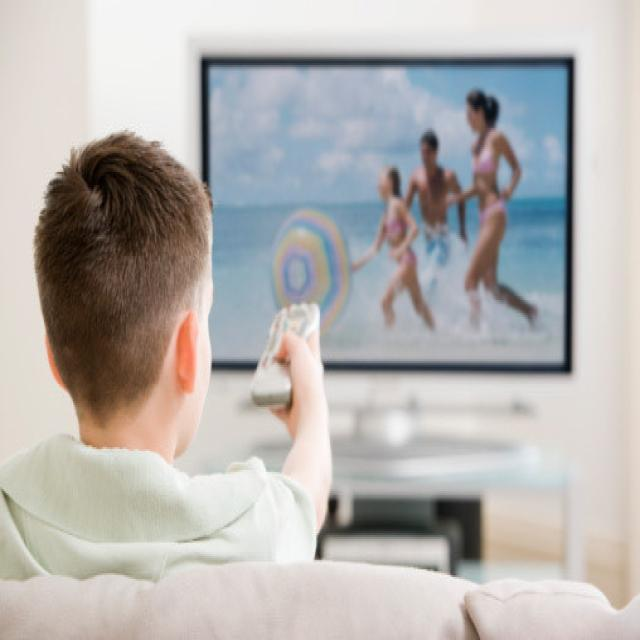tv-person: (1, 17, 586, 640)
